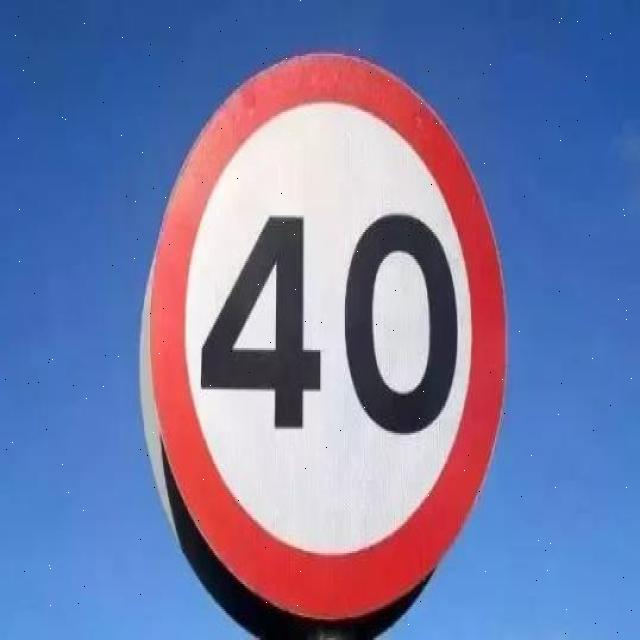speed limit 40: (150, 52, 508, 624)
